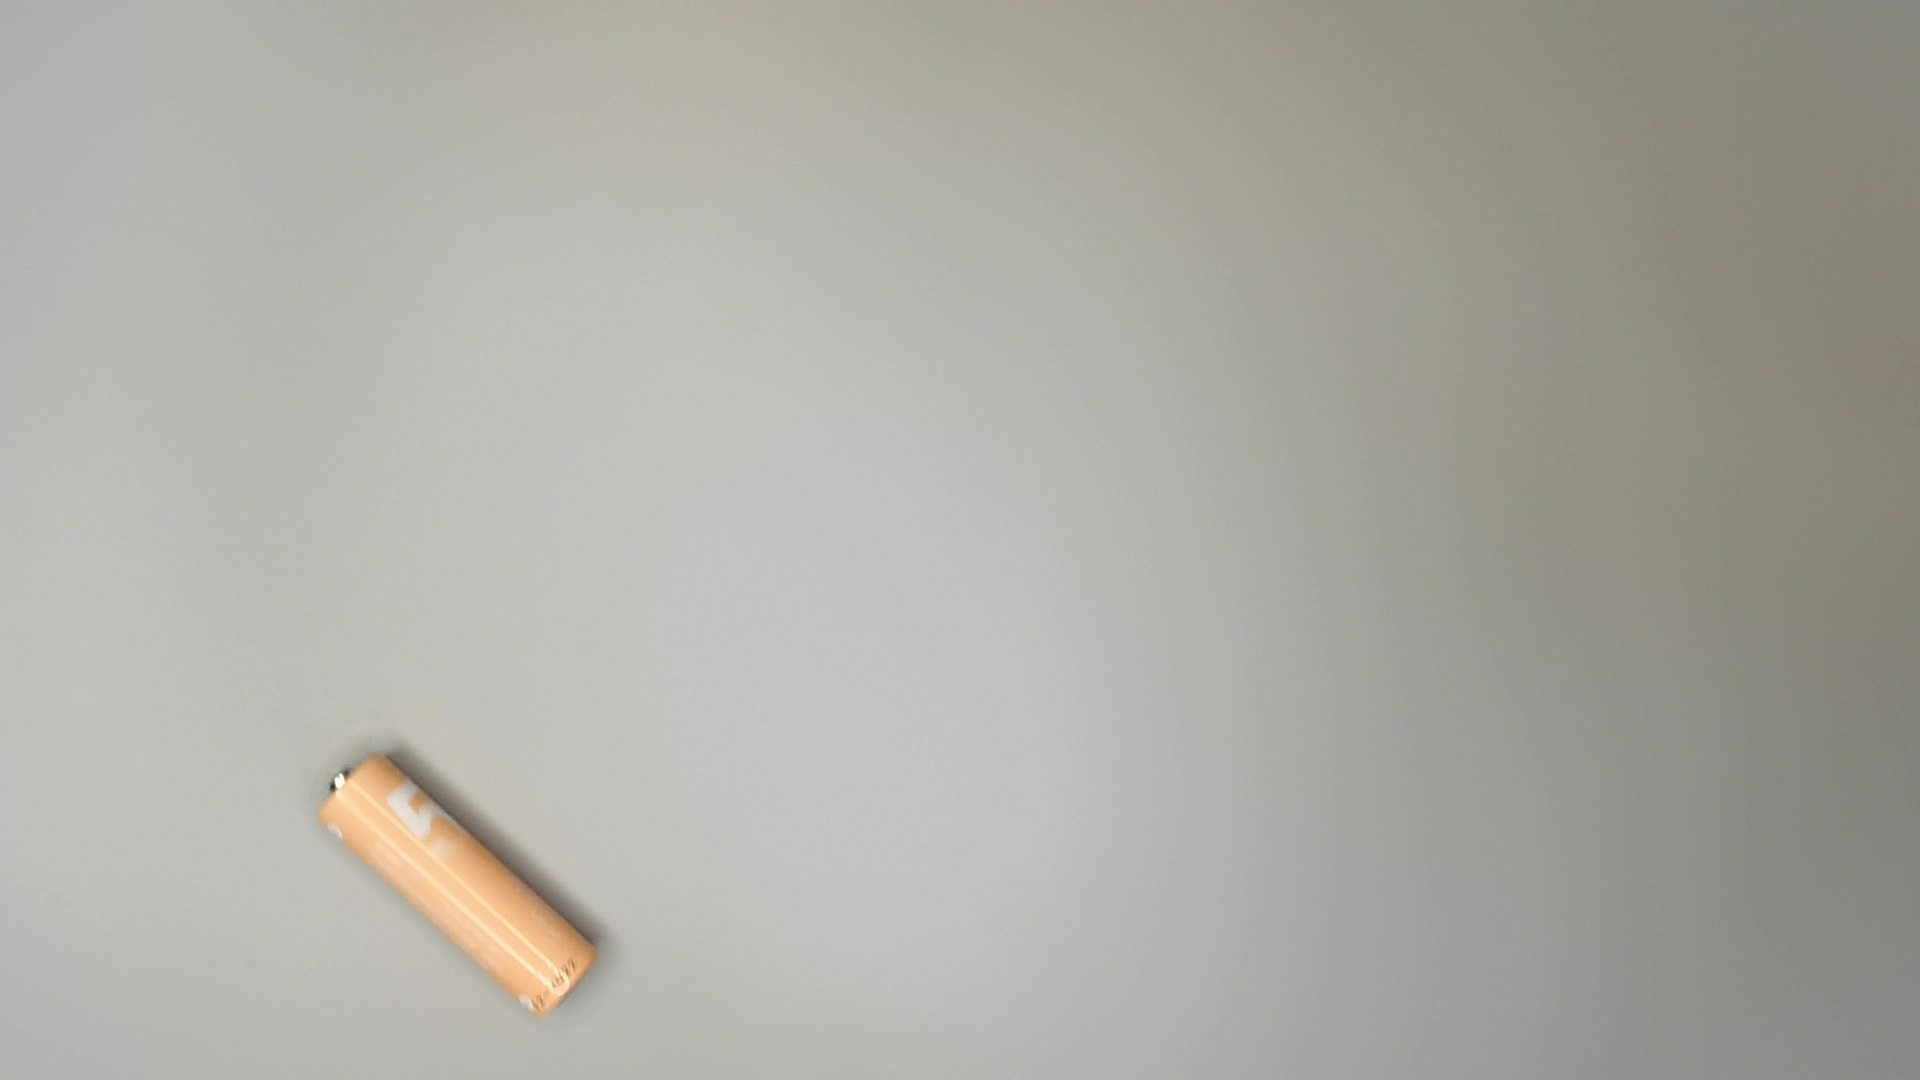battery: (311, 741, 600, 1019)
